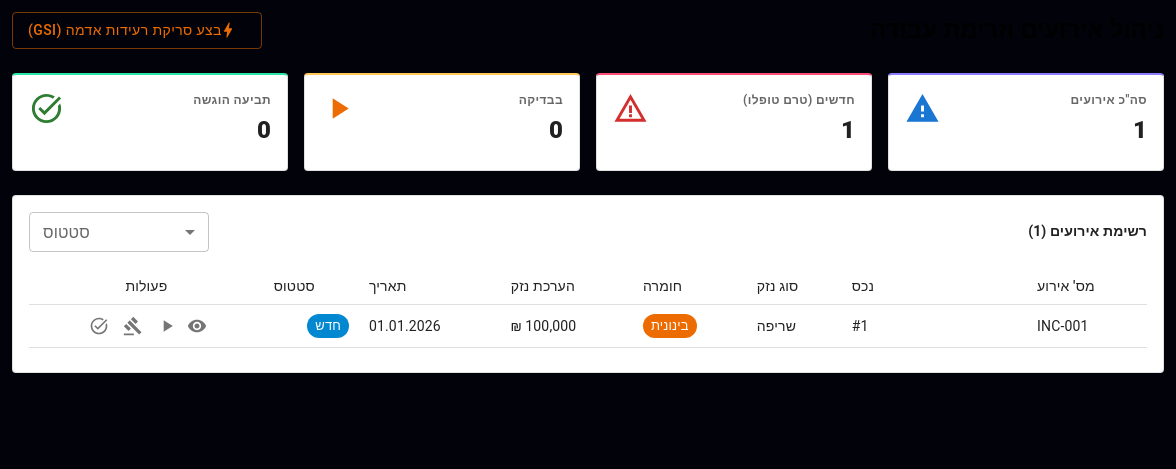
Test: Incidents — drafts and status changes › shows why a status change failed
This screenshot has width=1176, height=469.
Expected: the text "INC-001" is shown, top-left (1027, 305), bottom-right (1147, 348)
Click the button named "העבר לבדיקה": (167, 326) top-left (152, 311), bottom-right (182, 341)
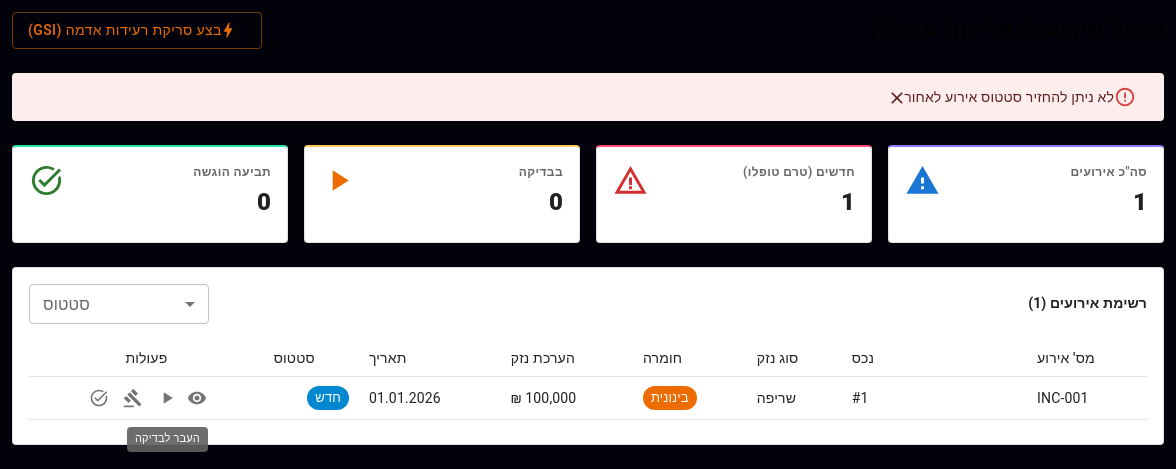
Now the text "לא ניתן להחזיר סטטוס אירוע לאחור" is shown, box top-left (904, 88), bottom-right (1114, 104)
